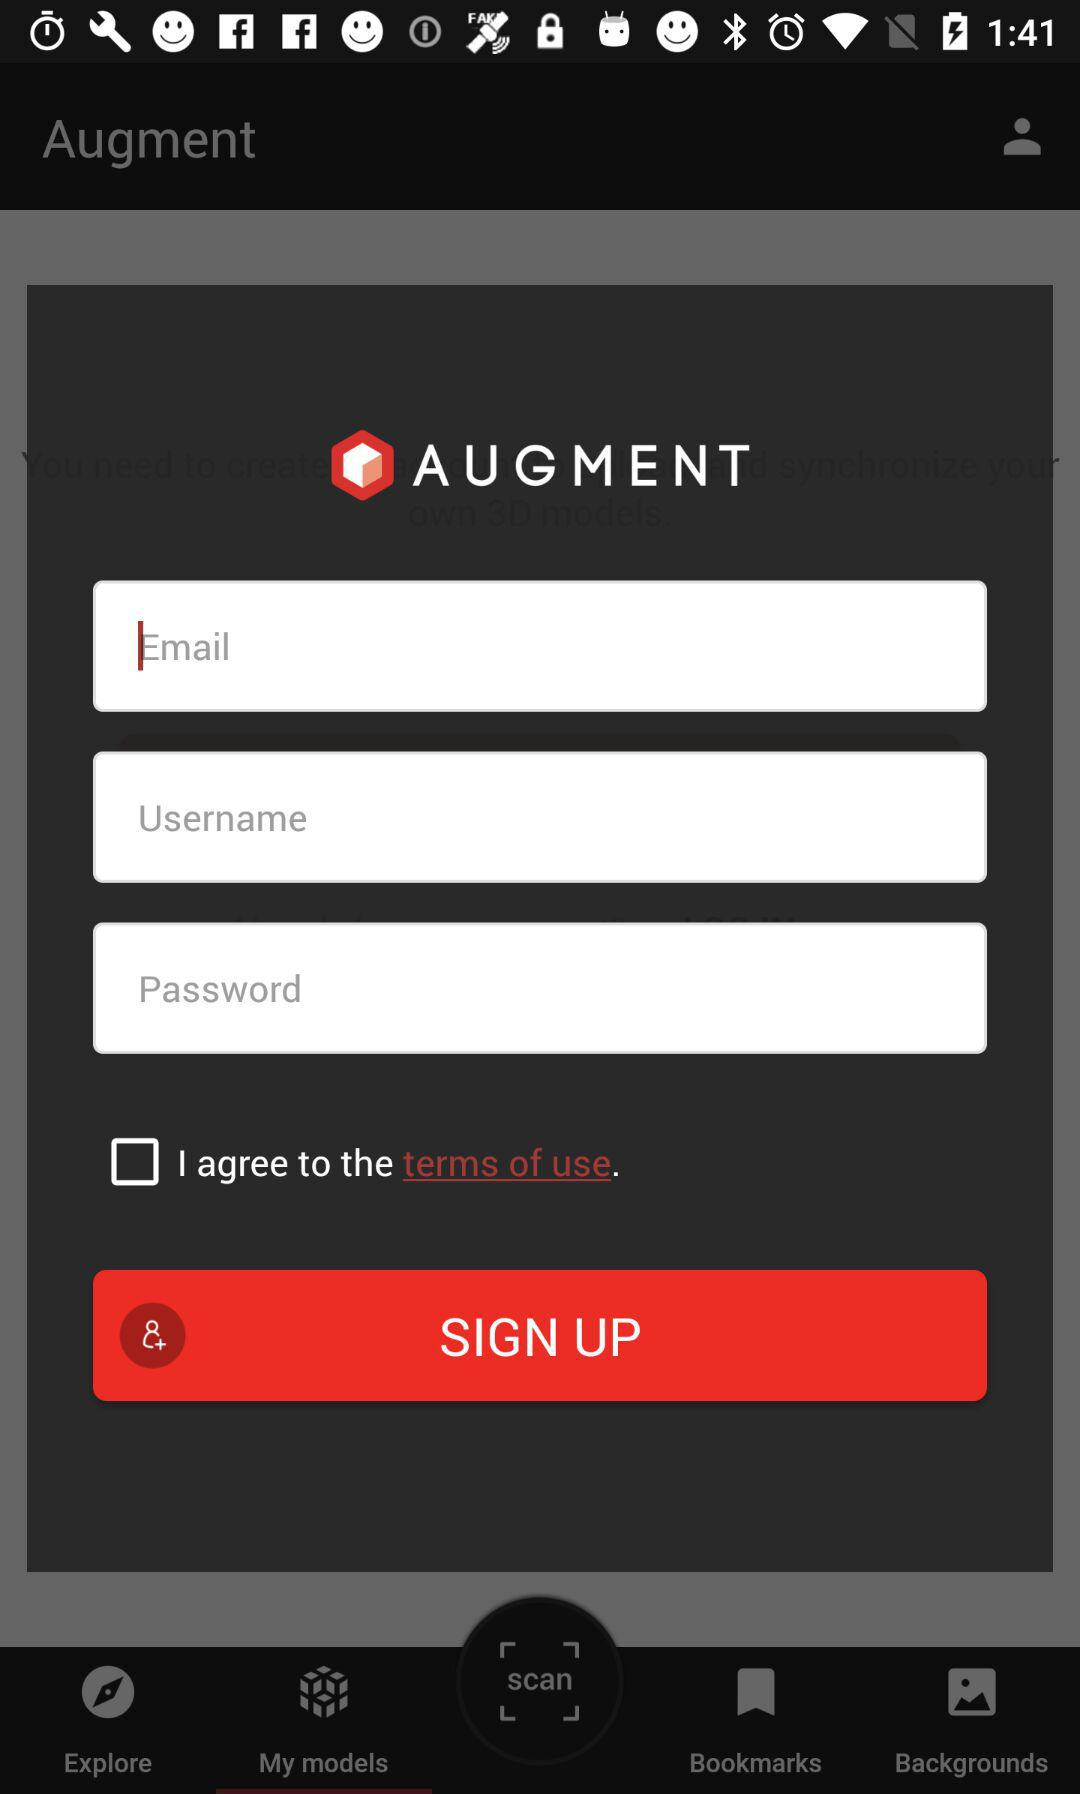CheckedTextView: (111, 1137, 619, 1187)
EditText: (94, 580, 986, 712), (94, 752, 986, 884), (94, 923, 986, 1055)
Icon: (81, 1665, 136, 1718), (737, 1667, 776, 1717), (1003, 119, 1042, 158)
Image: (500, 1642, 582, 1722), (332, 431, 396, 502), (300, 1665, 350, 1718), (948, 1667, 997, 1717)
Modal: (28, 286, 1053, 1572)
Text: (179, 1147, 619, 1185), (411, 443, 751, 488), (44, 120, 258, 170), (142, 974, 301, 1005), (141, 806, 307, 833), (896, 1750, 1049, 1779), (260, 1750, 388, 1779), (691, 1752, 822, 1773), (143, 633, 229, 662), (65, 1753, 152, 1779)
TextButton: (94, 1271, 986, 1402)
UpperTaskBar: (1, 1, 1080, 64)
